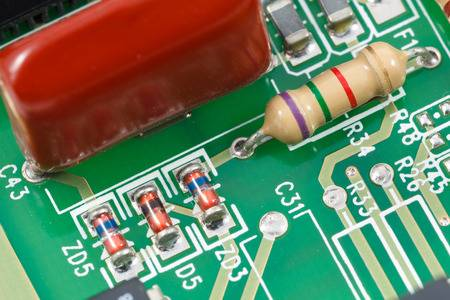resistor: (263, 40, 406, 144)
